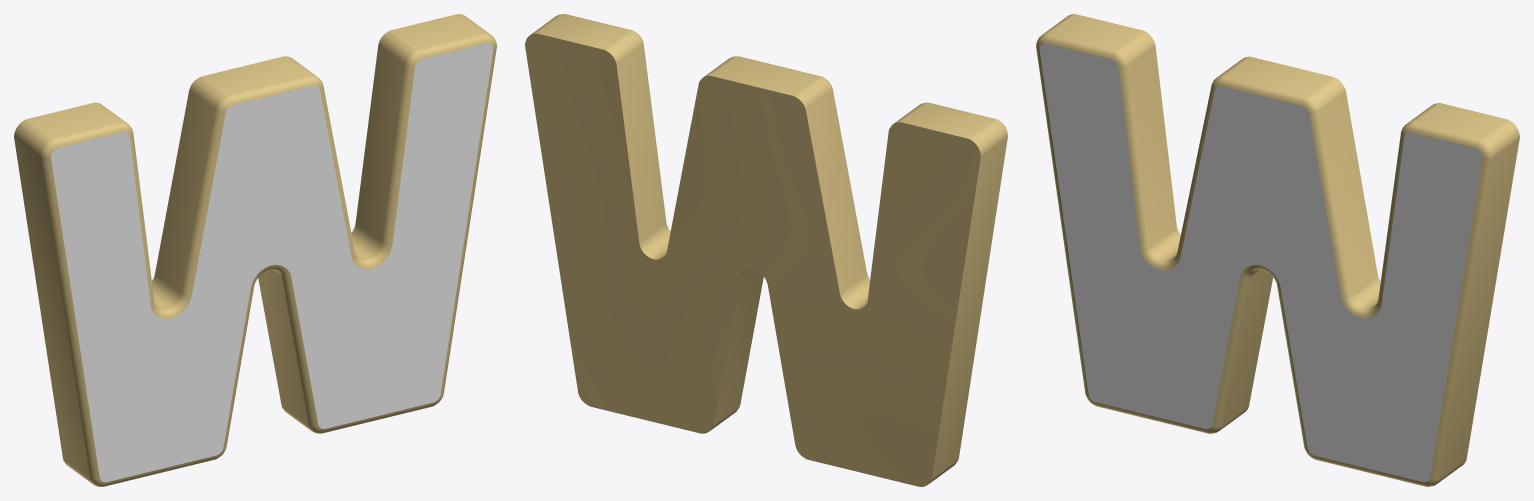
Rendered from LettersLightUp02_W.FBX.
3 renders of one model, left to right at view 1: azimuth 30°, elevation 25°; view 2: azimuth 150°, elevation 25°; view 3: azimuth 330°, elevation 25°, orthographic.
Parts seen in each view (by area): view 1: LettersLightUp02_W; view 2: LettersLightUp02_W; view 3: LettersLightUp02_W.
Boxes of the visible parts, bbox=[...] form: LettersLightUp02_W: bbox=[14, 14, 496, 486]; LettersLightUp02_W: bbox=[525, 14, 1007, 486]; LettersLightUp02_W: bbox=[1036, 14, 1519, 486].
Size of what is drawn, in the model's own units: 0.7944 by 0.5997 by 0.0912.
